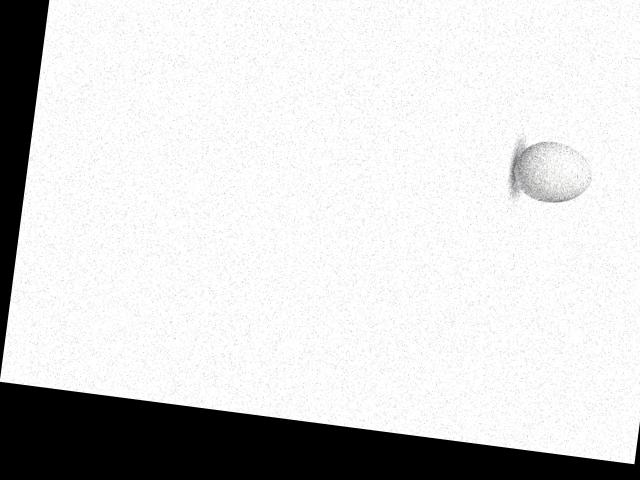egg: (510, 137, 596, 206)
